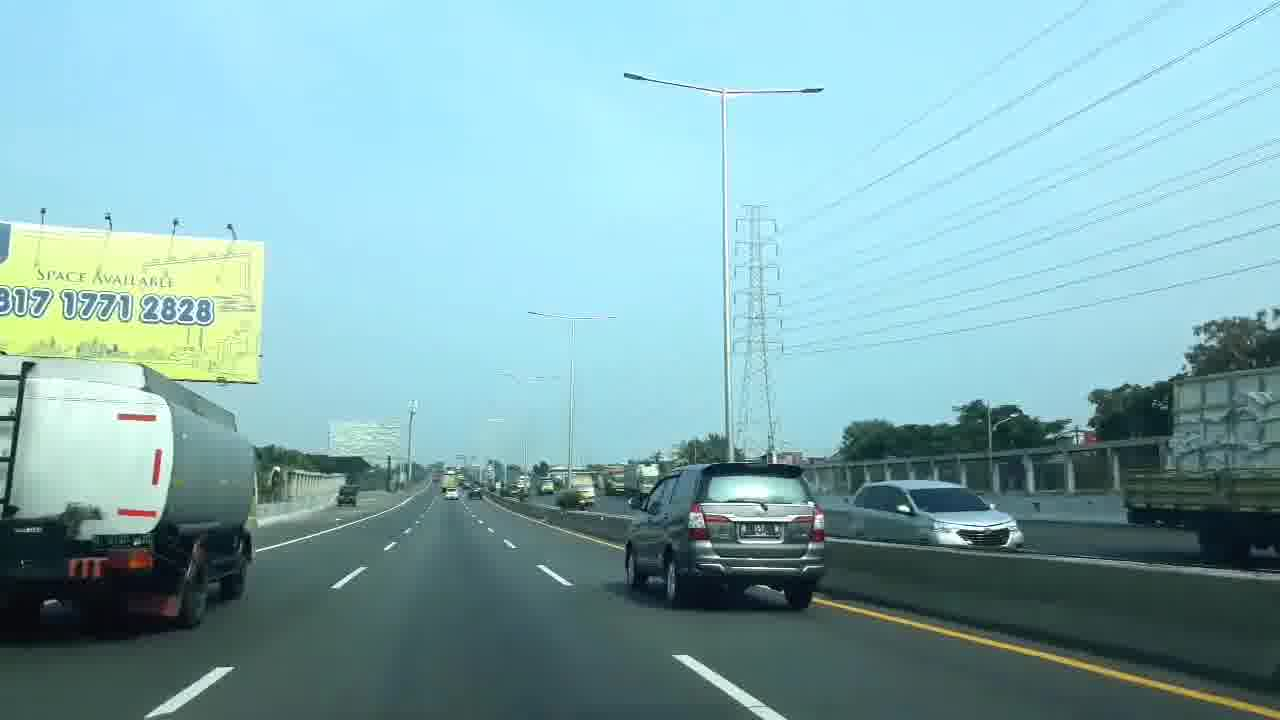plate_positive: (739, 522, 783, 539)
